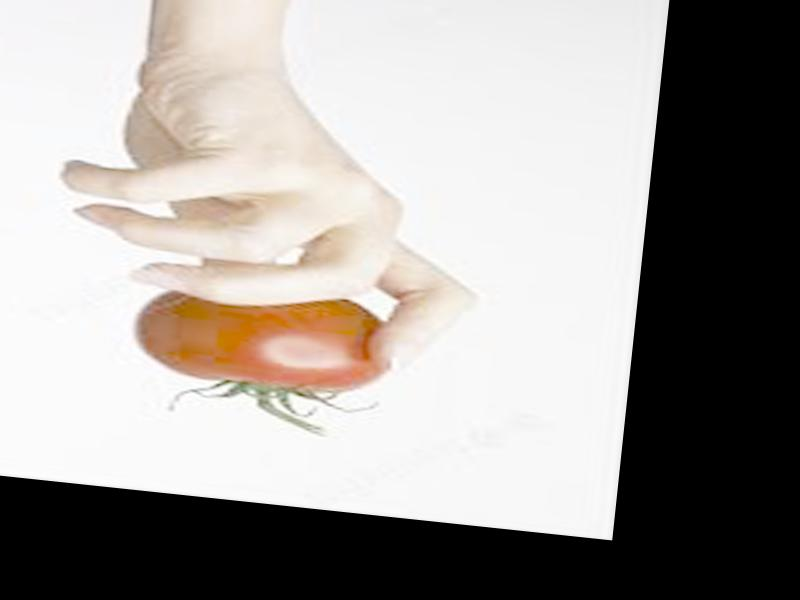Tomato: (129, 279, 392, 439)
